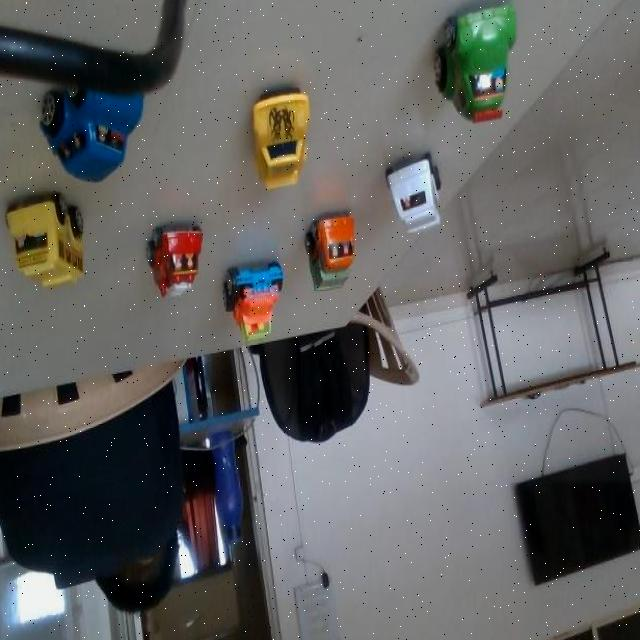car: (399, 0, 585, 164), (208, 54, 370, 203), (372, 128, 476, 256), (210, 256, 289, 358), (70, 73, 148, 175), (300, 194, 367, 310), (153, 212, 214, 299), (33, 202, 97, 275)
